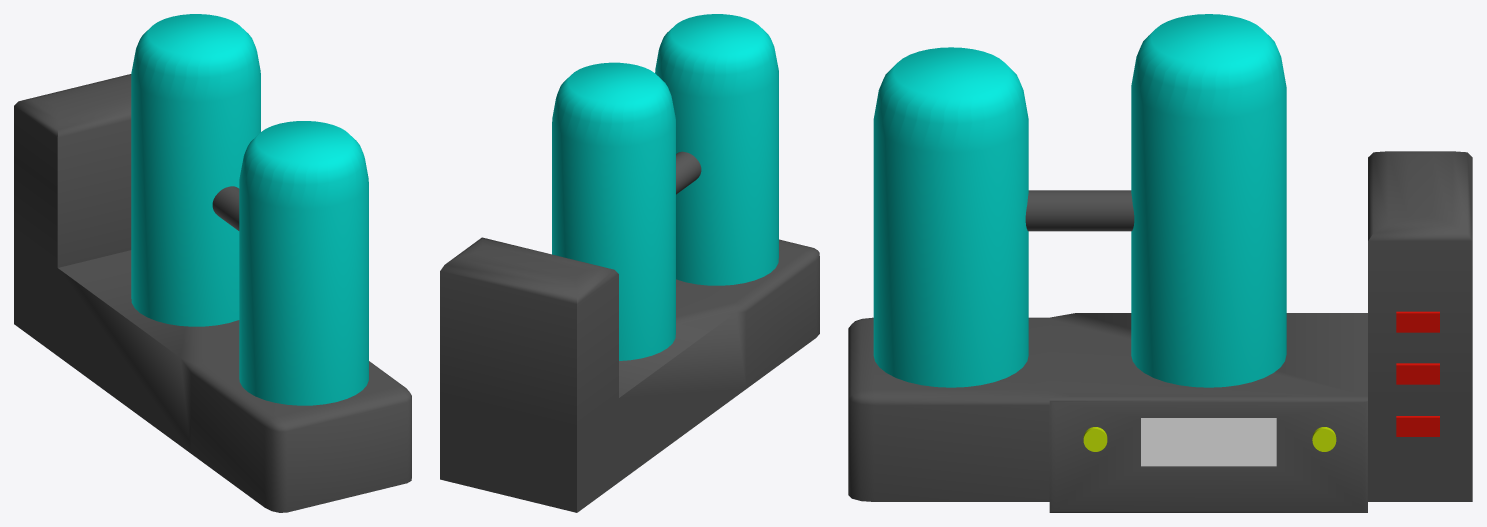
The model's file is Machine.fbx.
3 renders of one model, left to right at view 1: azimuth 30°, elevation 25°; view 2: azimuth 150°, elevation 25°; view 3: azimuth 270°, elevation 25°, orthographic. The views are drawn at different scales.
Visible parts, largest first — view 1: Cube.001; view 2: Cube.001; view 3: Cube.001.
Part boxes in pixels (bbox=[...]): Cube.001: bbox=[14, 14, 411, 512]; Cube.001: bbox=[440, 14, 819, 512]; Cube.001: bbox=[848, 14, 1472, 512].
Bounding box in the file's own units: 391 × 801 × 1075.
